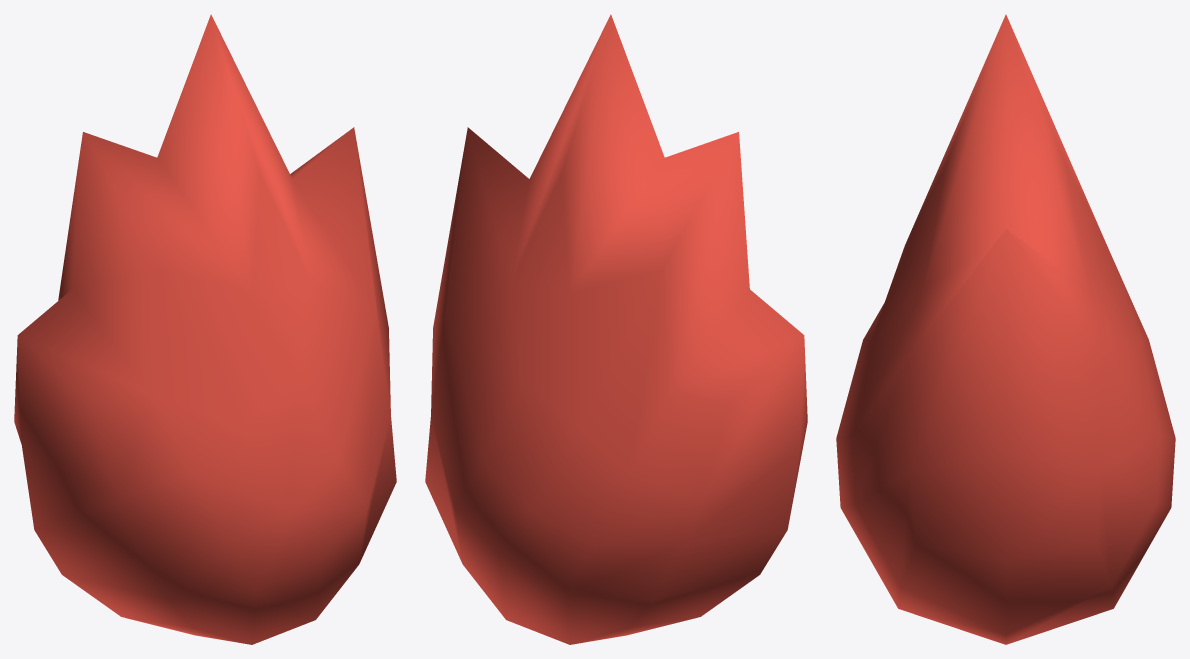
The model's file is FB_CommonPowerup_Prop.fbx.
The picture shows the model from 3 angles, left to right: view 1: azimuth 30°, elevation 25°; view 2: azimuth 150°, elevation 25°; view 3: azimuth 270°, elevation 25°; orthographic projection.
Visible parts, largest first — view 1: polySurface2; view 2: polySurface2; view 3: polySurface2.
Boxes of the visible parts, x1=… form: polySurface2: x1=14, y1=14, x2=396, y2=644; polySurface2: x1=425, y1=14, x2=807, y2=644; polySurface2: x1=836, y1=14, x2=1175, y2=644.
Bounding box in the file's own units: 35.47 × 56.39 × 28.46.
